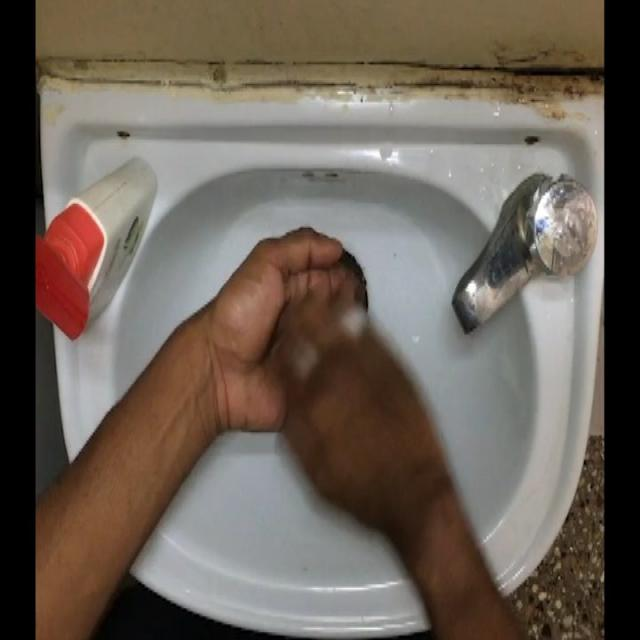step_4: (208, 214, 427, 528)
